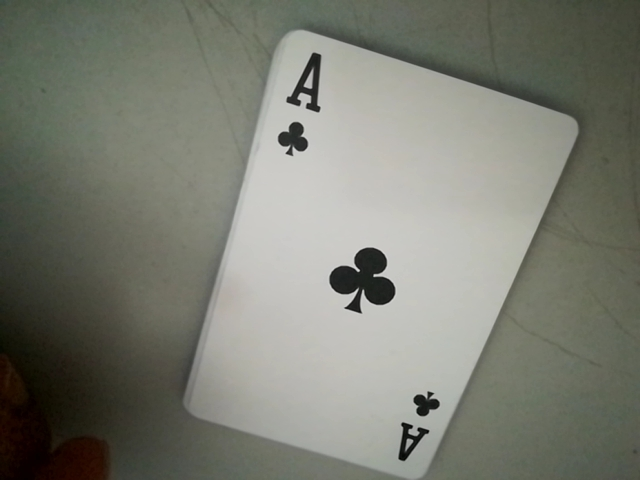mh a: (263, 43, 330, 167), (392, 387, 447, 476)
